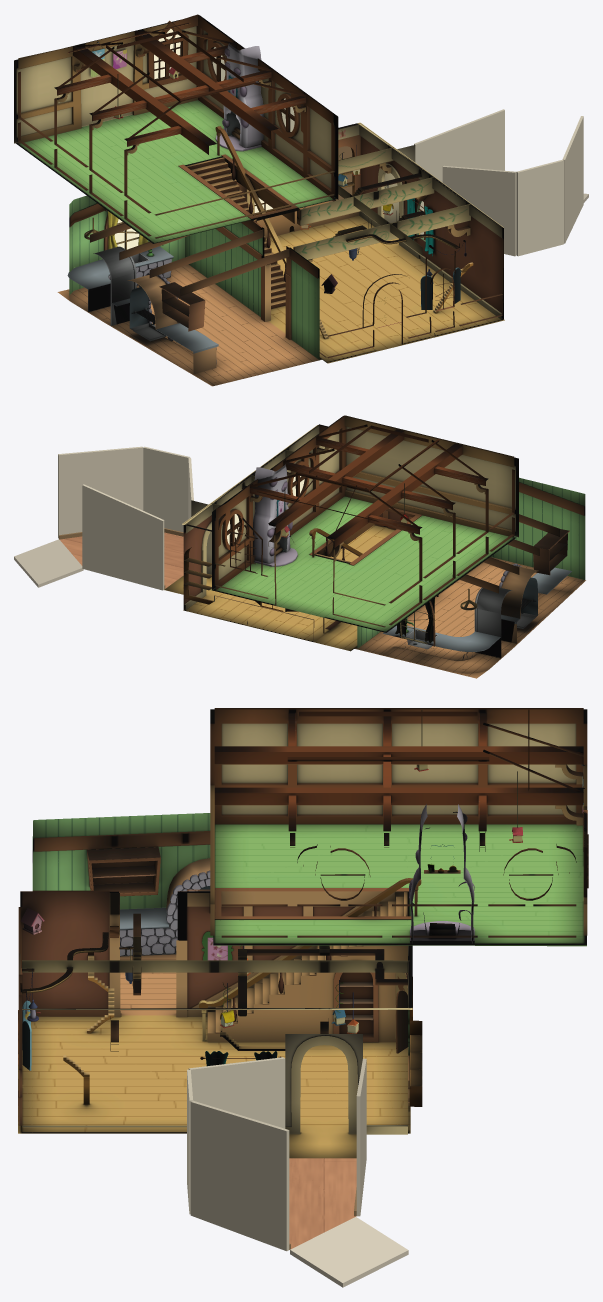
The model's file is cottage_interior.glb.
3 renders of one model, top to bottom at view 1: azimuth 30°, elevation 25°; view 2: azimuth 150°, elevation 25°; view 3: azimuth 270°, elevation 25°, orthographic. The views are drawn at different scales.
Visible parts, largest first — view 1: VestibuleCandidate_CottageInterior; view 2: VestibuleCandidate_CottageInterior; view 3: VestibuleCandidate_CottageInterior.
Boxes of the visible parts, x1,y1,x2,y2 form: VestibuleCandidate_CottageInterior: (14,14,588,386); VestibuleCandidate_CottageInterior: (14,415,585,678); VestibuleCandidate_CottageInterior: (18,708,588,1287).
Size of the model in its own units: 19.24 by 7.81 by 13.74.
11 materials, 7 textured.
